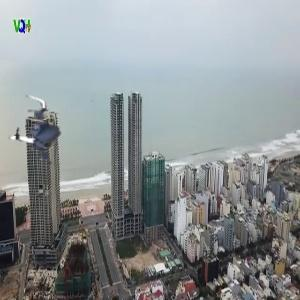drone: (1, 95, 76, 170)
